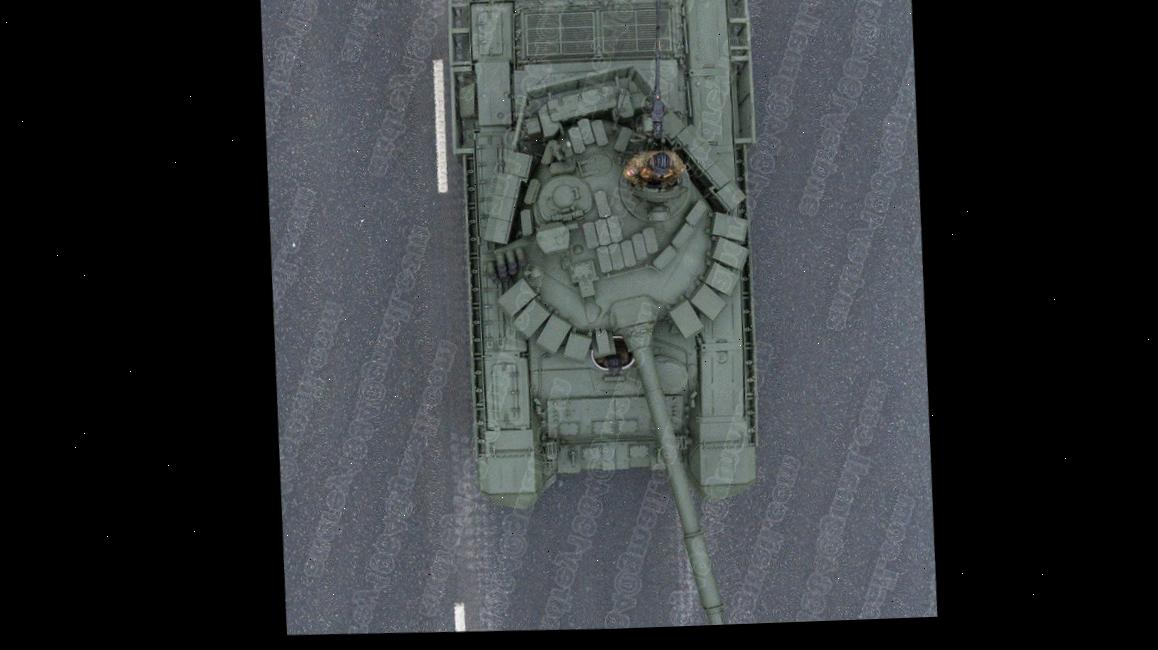tank: (428, 0, 813, 634)
